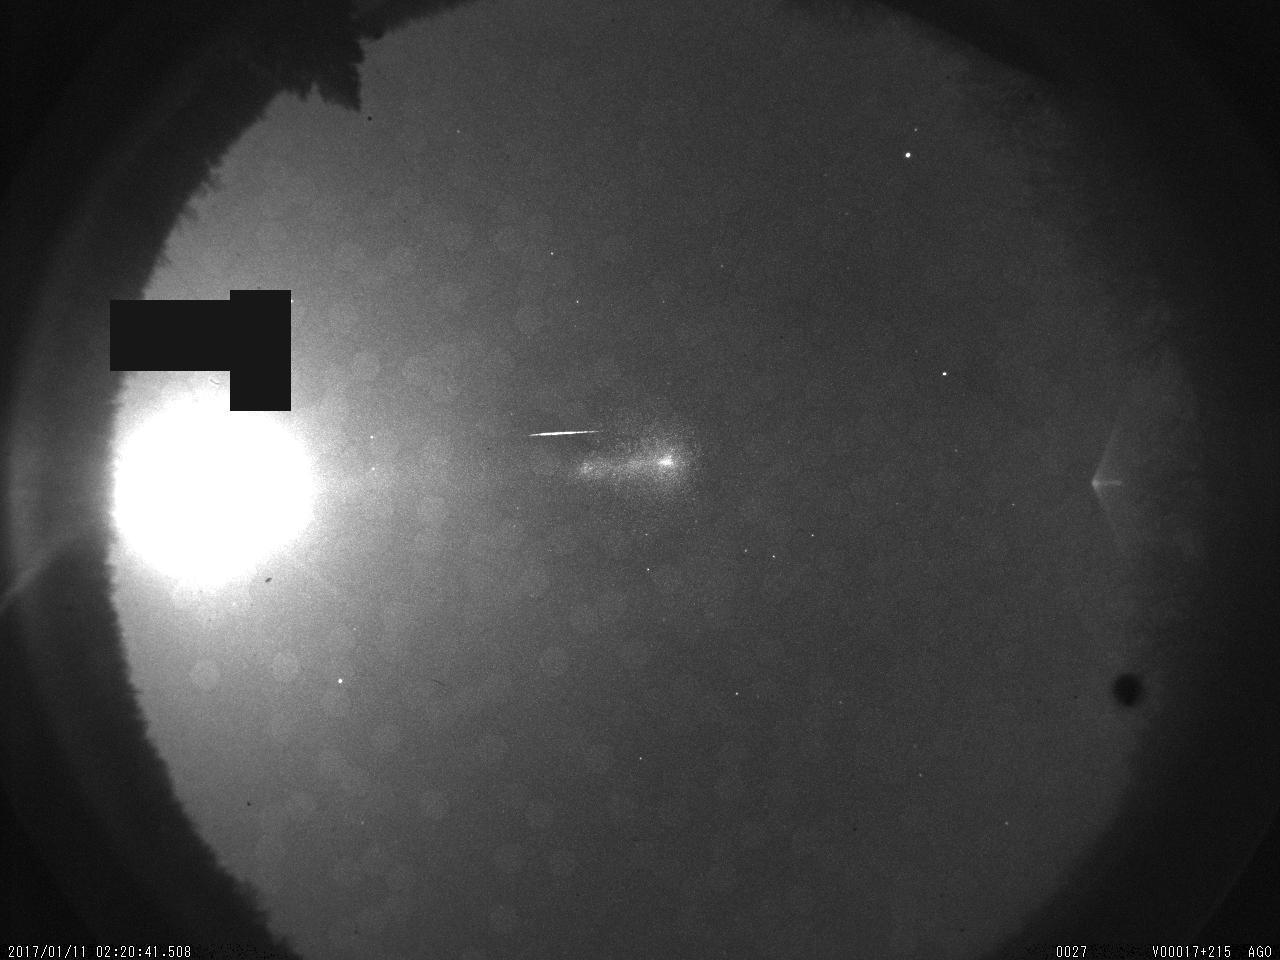Meteor: (522, 424, 612, 442)
